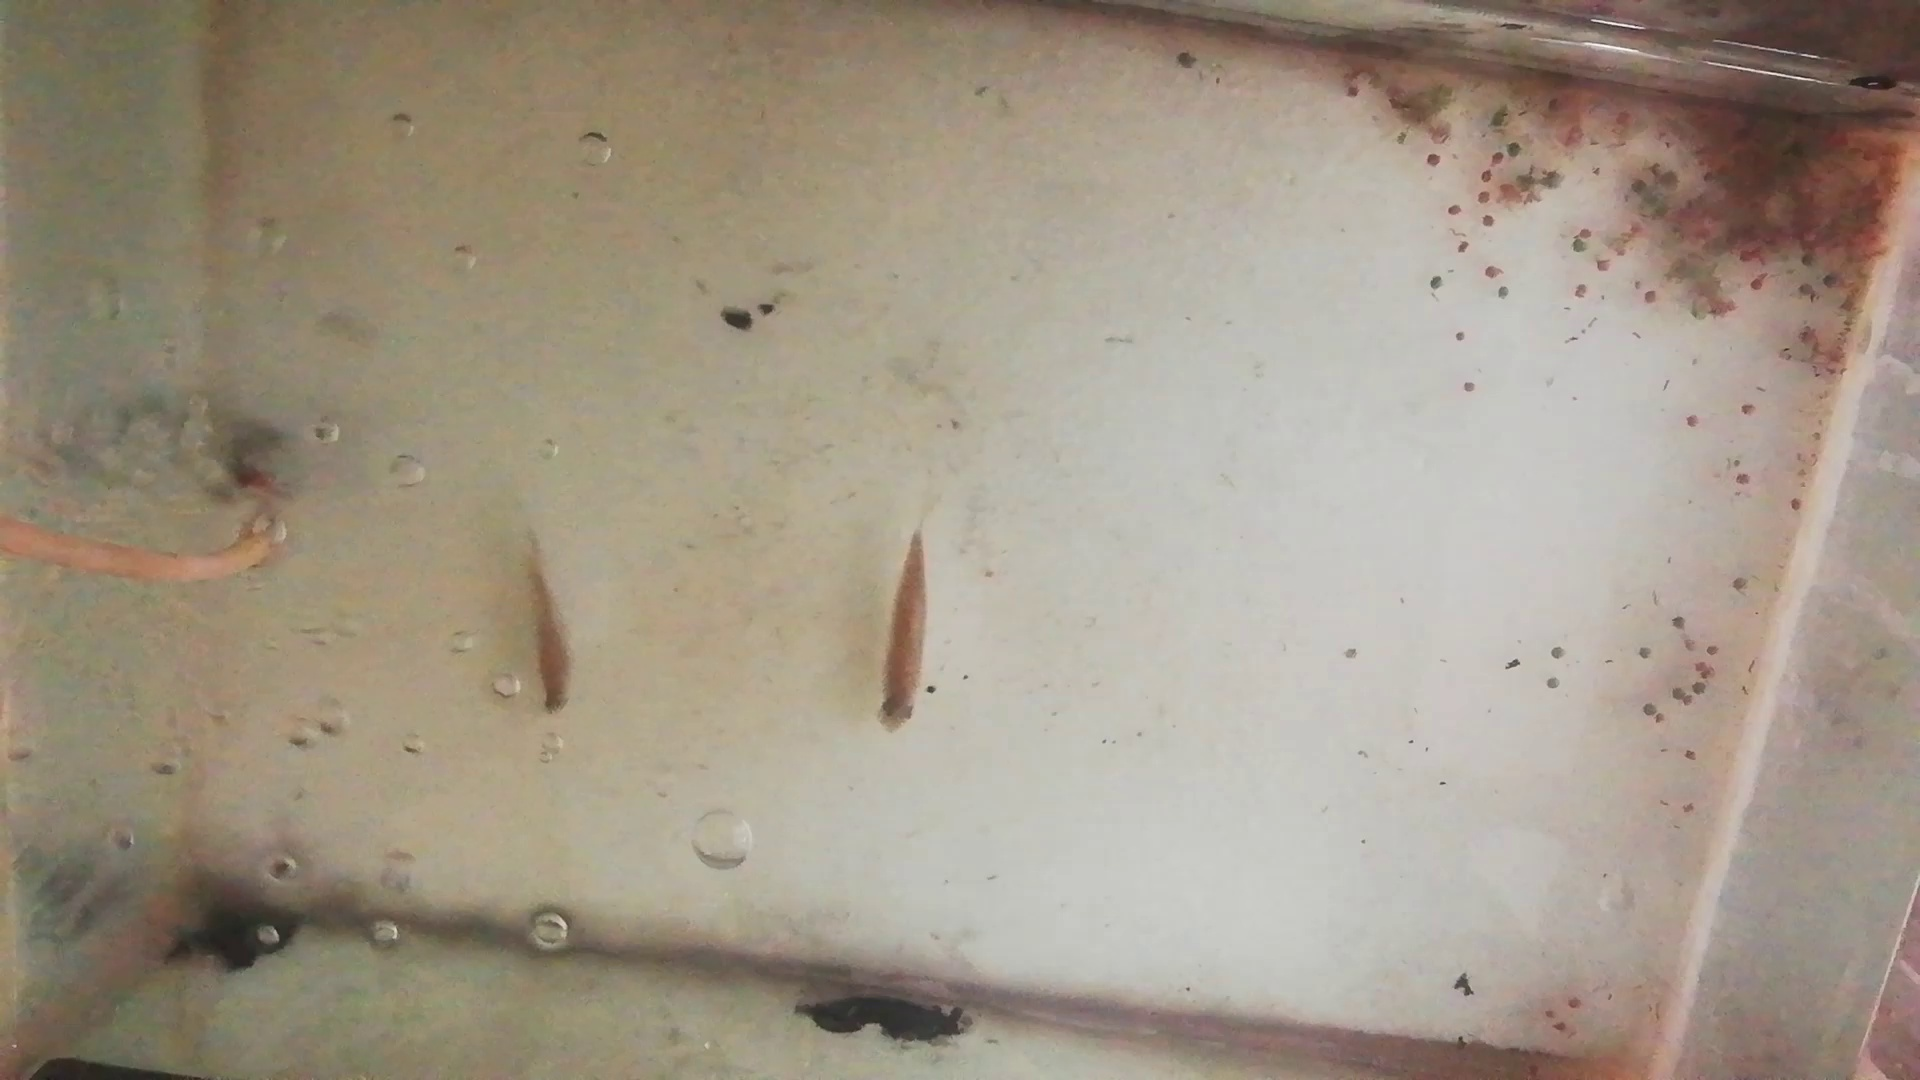fish: (872, 534, 932, 735), (526, 559, 575, 717)
